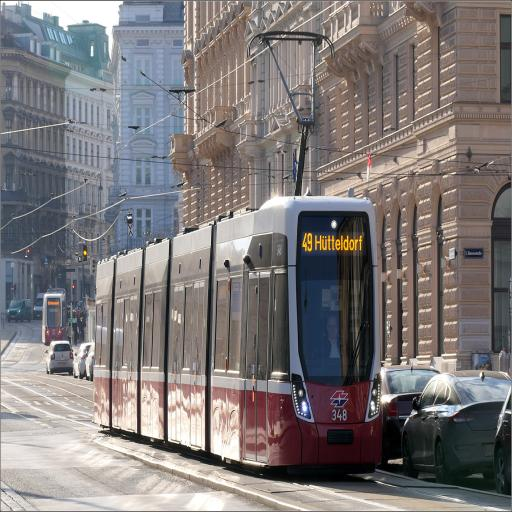Flexity: (93, 198, 380, 474), (41, 289, 68, 344)
